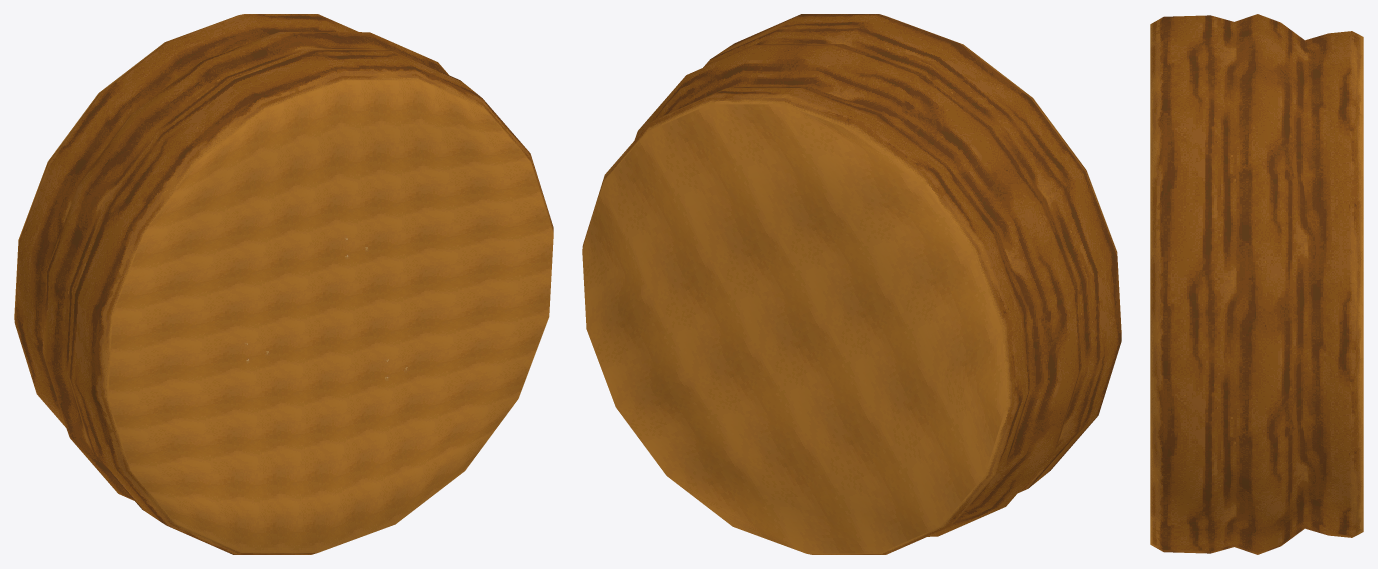
File: SM_AP_Pillar_47m_1.glb
3 views of the same model, side by side, from view 1: azimuth 30°, elevation 25°; view 2: azimuth 150°, elevation 25°; view 3: azimuth 270°, elevation 25° (orthographic).
Parts seen in each view (by area): view 1: SM_AP_Pillar_47m_1; view 2: SM_AP_Pillar_47m_1; view 3: SM_AP_Pillar_47m_1.
Boxes of the visible parts, x1,y1,x2,y2 form: SM_AP_Pillar_47m_1: (14,14,553,554); SM_AP_Pillar_47m_1: (582,14,1121,554); SM_AP_Pillar_47m_1: (1150,14,1363,554).
Bounding box in the file's own units: 47.21 × 47.21 × 18.47.
1 material, 1 textured.
